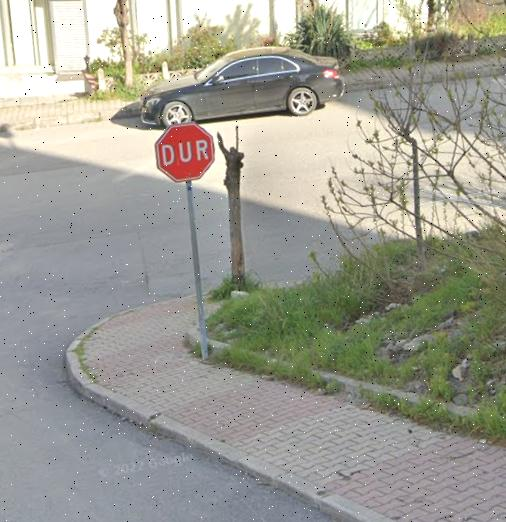stop: (156, 123, 215, 185)
